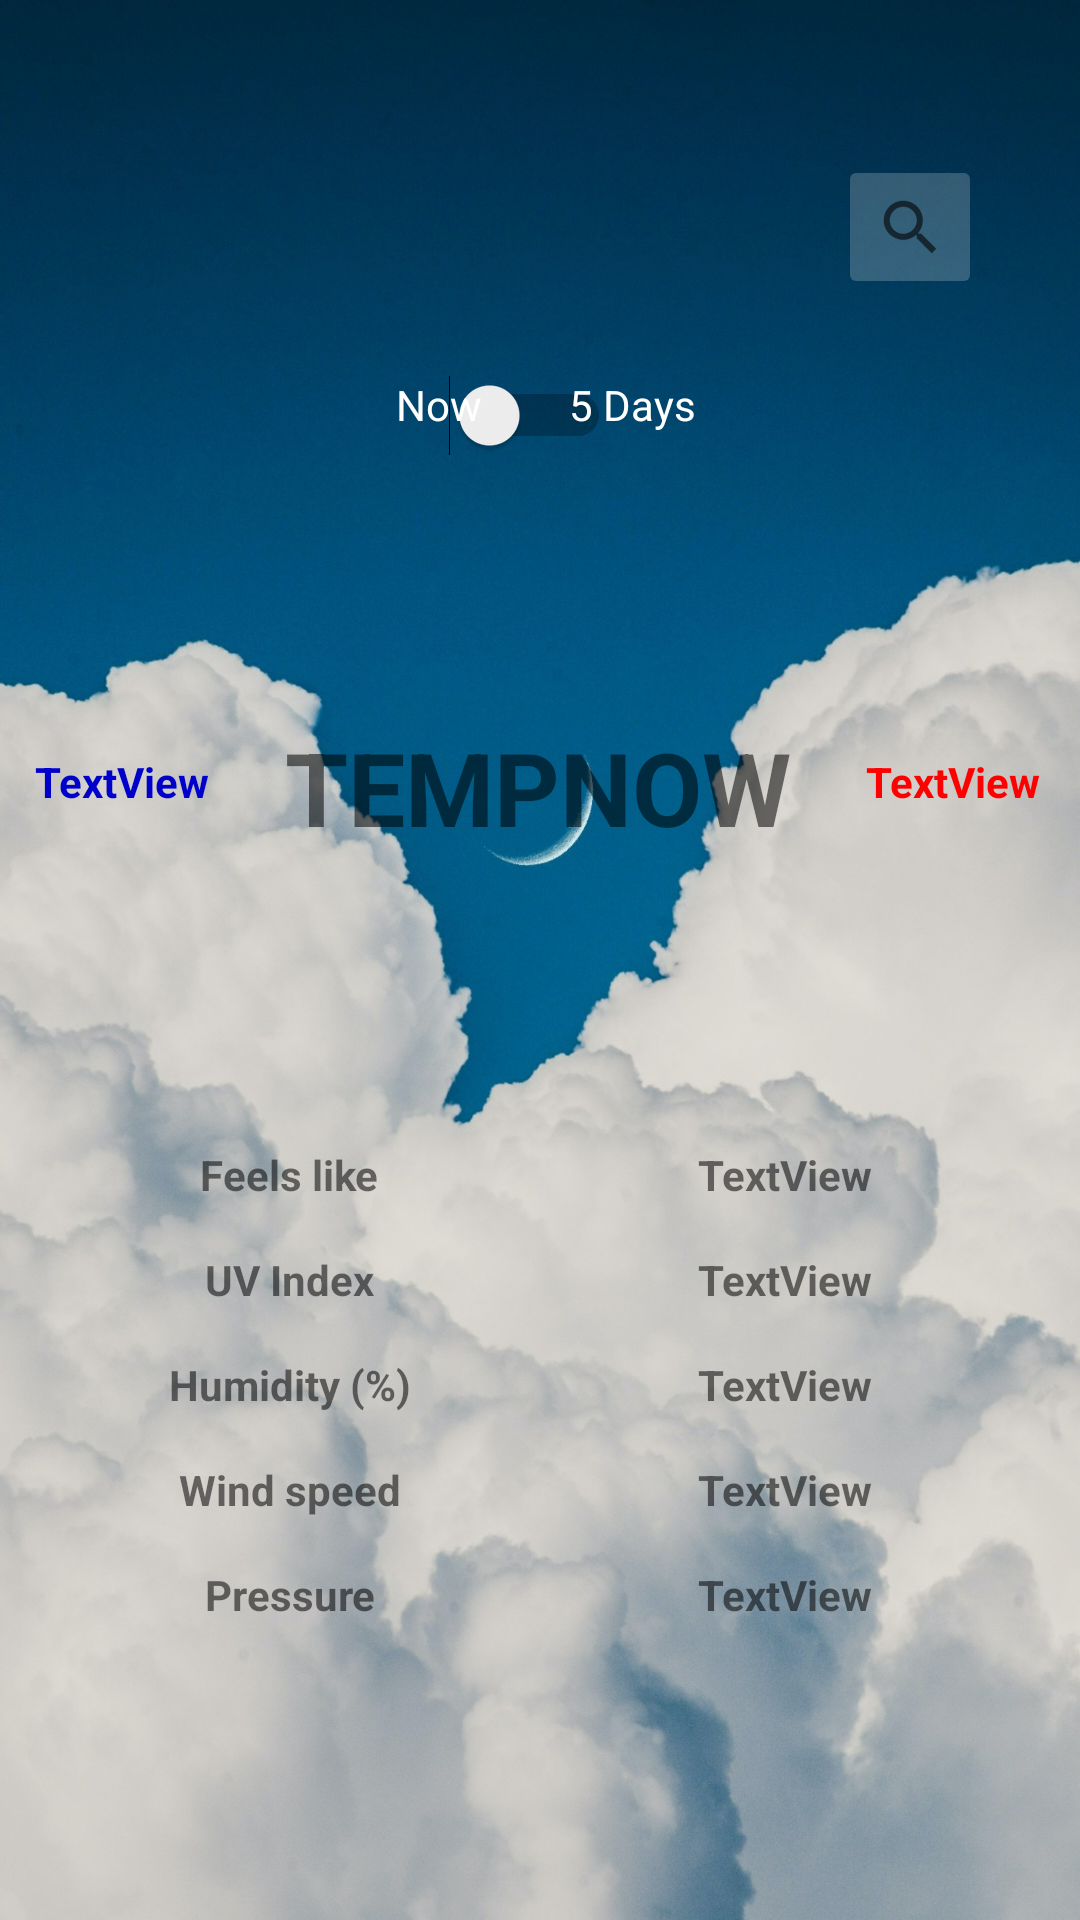

Where icons sit on this 1080×1920 app screen, as (left=x1, top=y1, right=x2, bottom=y2):
For changing location: (left=850, top=173, right=970, bottom=281)
